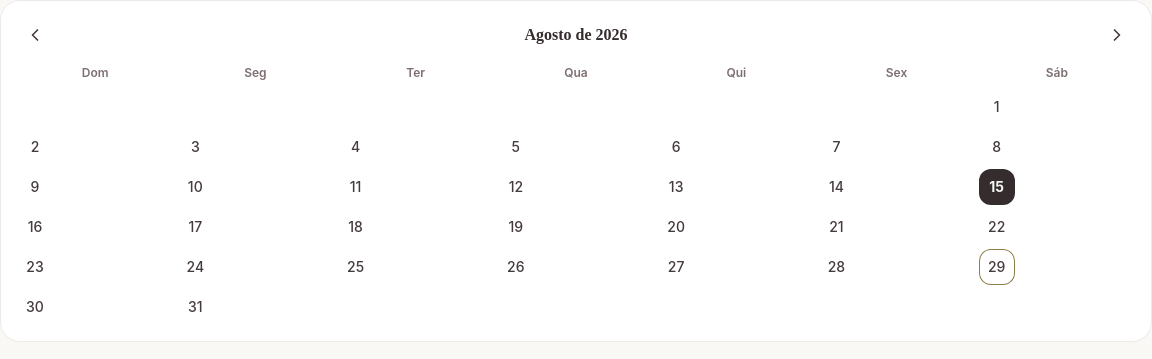
Test: DatePicker › avança e volta o mês pelos botões
The width and height of the screenshot is (1152, 359).
Click the button named "Próximo mês" at (1117, 35), box [1099,17,1135,53]
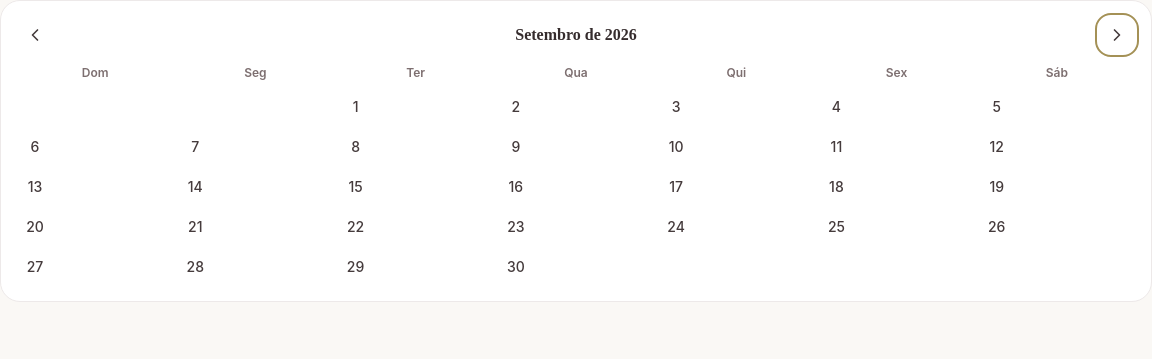
Result: the text "Setembro de 2026" is shown at [515,23,637,47]
Click the button named "Mês anterior" at (35, 35), box [17,17,53,53]
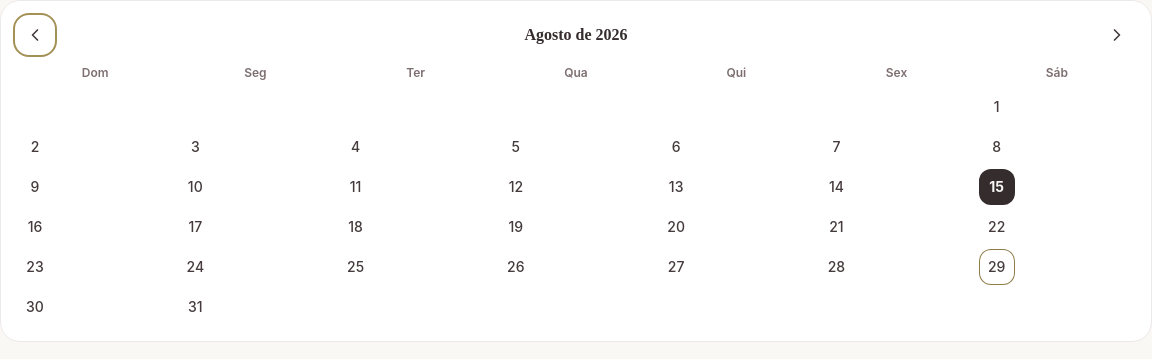
Result: the text "Agosto de 2026" is shown at [524,23,628,47]
